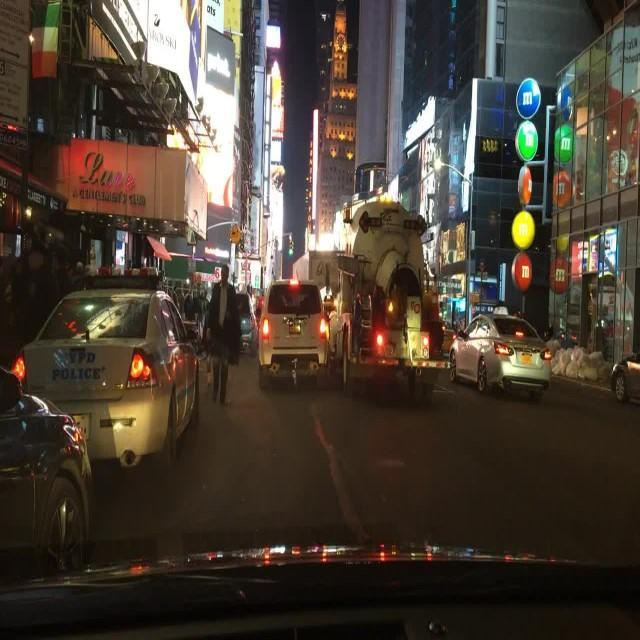normal: (0, 255, 226, 493), (249, 182, 453, 420), (438, 296, 569, 412)
